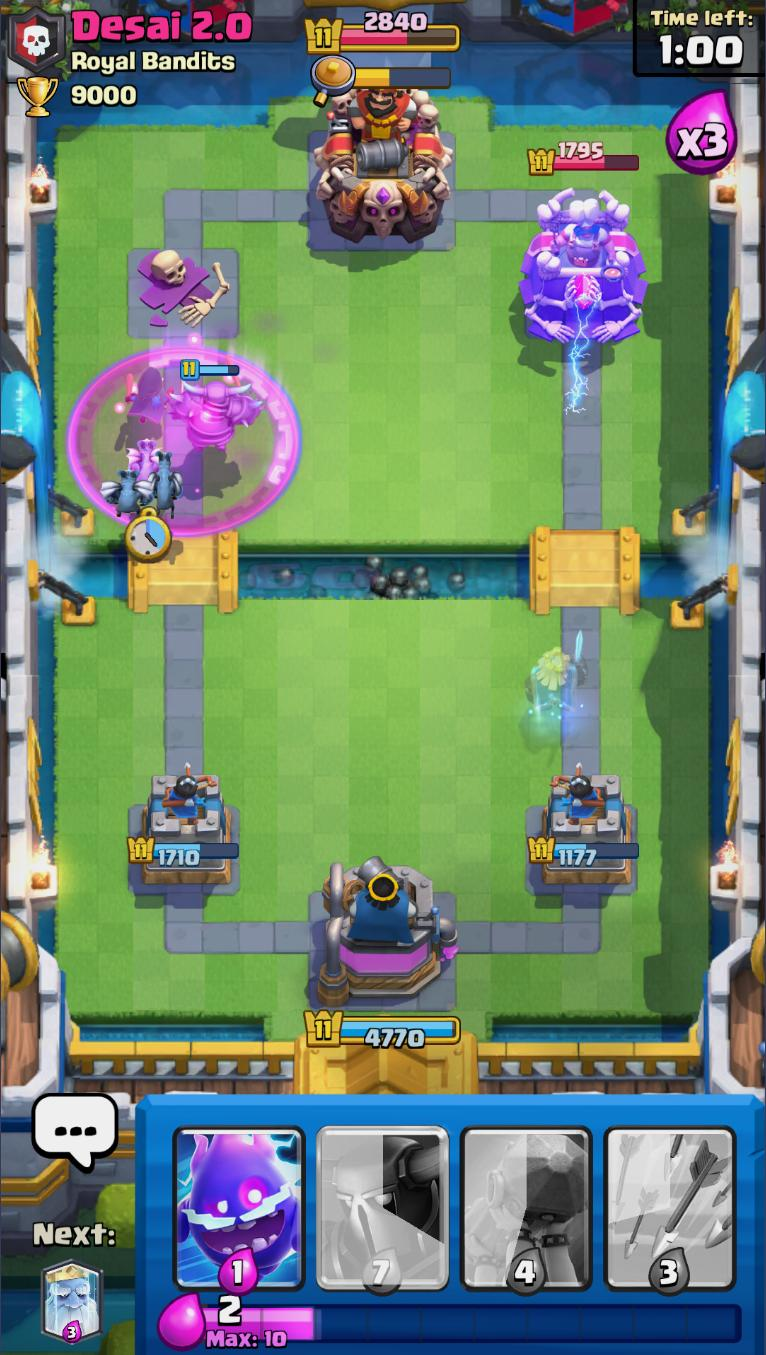ArrowNext: (41, 1264, 103, 1315)
BattleRamDeck: (455, 1096, 598, 1295)
Chef: (553, 198, 616, 277)
ElectroSpiritDeck: (166, 1095, 313, 1287)
Elixir: (204, 1293, 747, 1350)
Empty: (601, 1096, 741, 1296)
EnemyTower: (517, 186, 649, 348)
EnemyTowerBrocken: (122, 240, 243, 340)
KingTower: (312, 82, 455, 245)
KingTowerHP: (303, 9, 463, 56)
MyBandit: (124, 364, 175, 426)
MyKingHP: (300, 1006, 462, 1051)
MyKingTower: (316, 851, 462, 1009)
MyMinion: (143, 450, 186, 517), (100, 468, 153, 517), (125, 440, 169, 481)
MyPekka: (168, 358, 262, 458)
MyPrincessTower: (125, 770, 242, 892), (528, 775, 639, 894)
MyPrincessTowerHP: (528, 833, 642, 869), (128, 834, 244, 868)
MyRoyaleGhost: (525, 628, 587, 721)
PekkaDeck: (308, 1098, 451, 1296)
Rage: (65, 350, 303, 537)
TowerPrincessHP: (527, 140, 643, 179)
